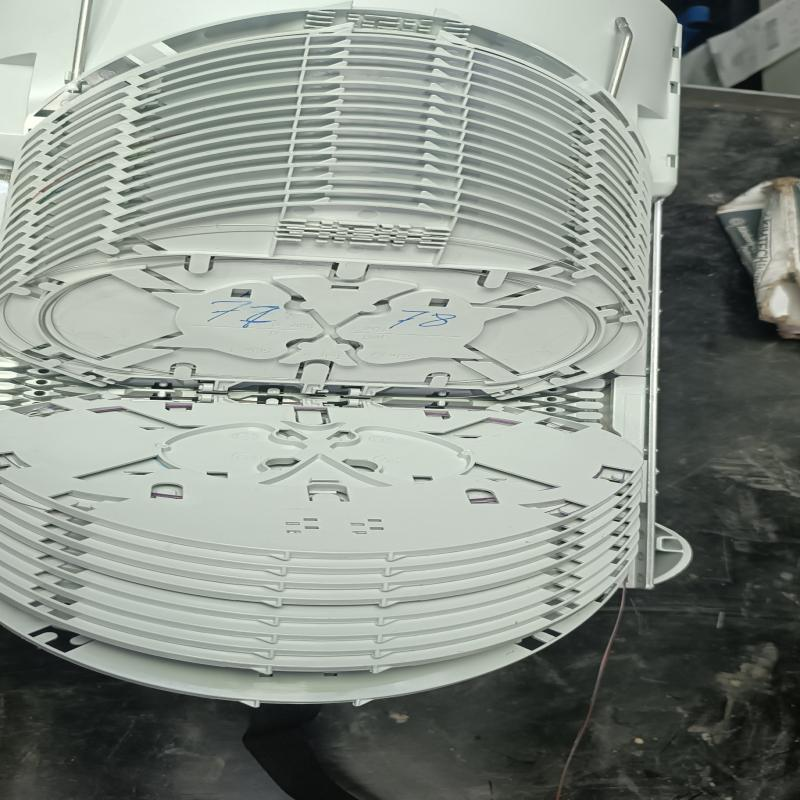NT-Muffen: (0, 0, 688, 690)
